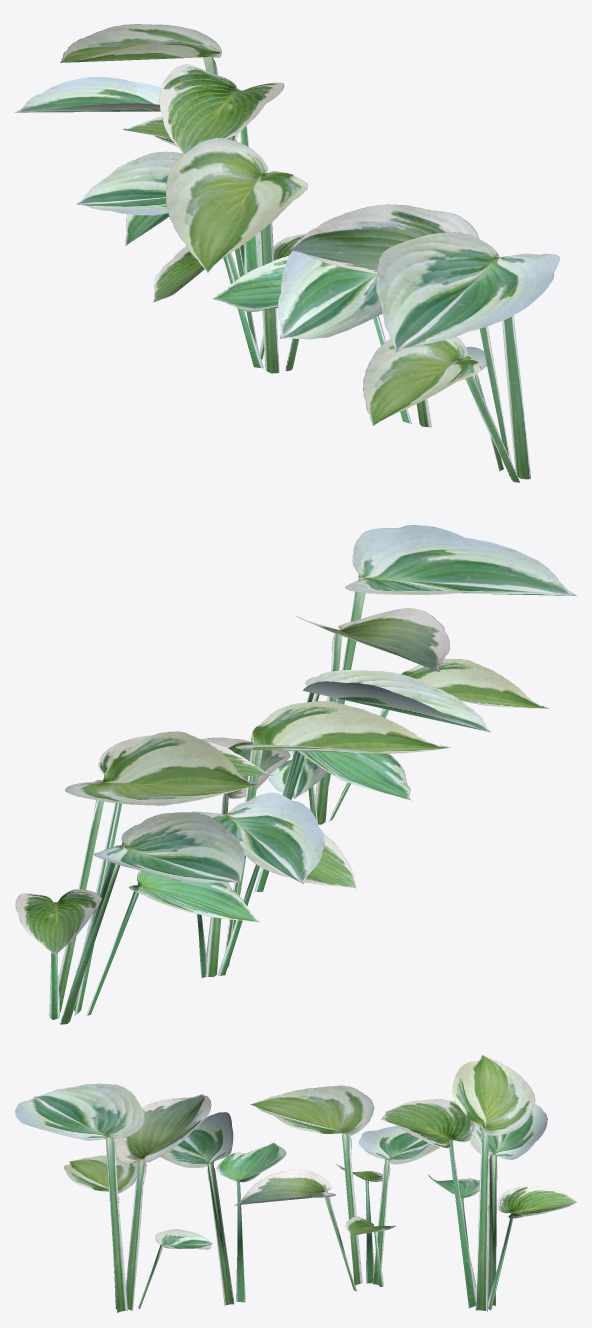
File: plant_small_wg_00_line_08.fbx
3 renders of one model, top to bottom at view 1: azimuth 30°, elevation 25°; view 2: azimuth 150°, elevation 25°; view 3: azimuth 270°, elevation 25°, orthographic. The views are drawn at different scales.
Visible parts, largest first — view 1: plant_small_wg_00_line_08; view 2: plant_small_wg_00_line_08; view 3: plant_small_wg_00_line_08.
Part boxes in pixels (box(x1,y1,x2,y2)): plant_small_wg_00_line_08: box(15, 24, 559, 482); plant_small_wg_00_line_08: box(15, 525, 576, 1024); plant_small_wg_00_line_08: box(15, 1054, 576, 1312).
Size of the model in its own units: 33.39 by 39.13 by 98.5.
1 material, 1 textured.
